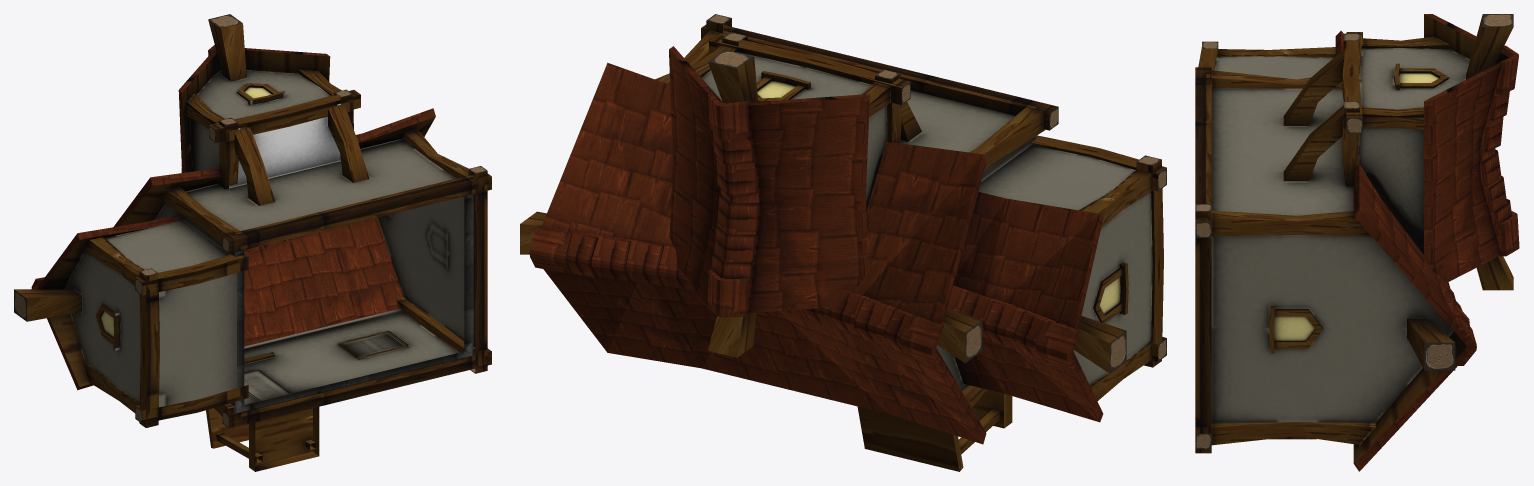
Rendered from House_02.FBX.
3 views of the same model, side by side, from view 1: azimuth 30°, elevation 25°; view 2: azimuth 150°, elevation 25°; view 3: azimuth 270°, elevation 25° (orthographic). The views are drawn at different scales.
Parts seen in each view (by area): view 1: Object072; view 2: Object072; view 3: Object072.
Part boxes in pixels (bbox=[...]): Object072: bbox=[14, 14, 491, 471]; Object072: bbox=[520, 14, 1166, 471]; Object072: bbox=[1195, 14, 1519, 471].
Size of the model in its own units: 1858 by 1445 by 1015.
